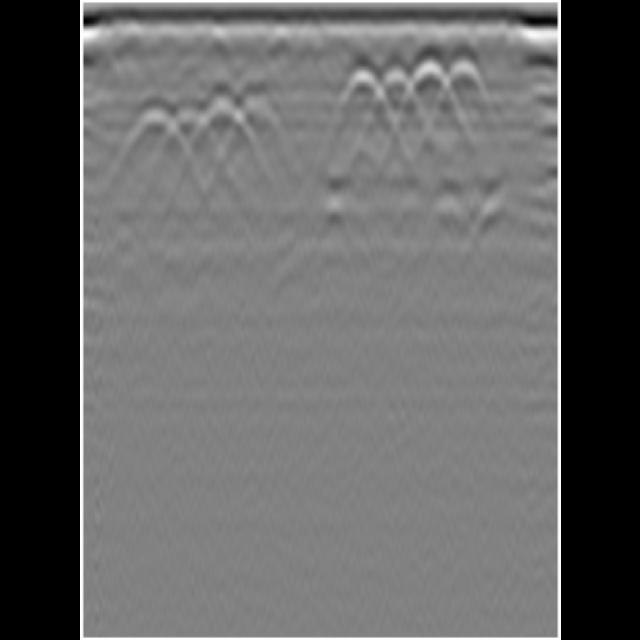hyperbola: (325, 62, 395, 134), (396, 53, 459, 133), (116, 101, 180, 172), (227, 93, 295, 159), (428, 55, 492, 123), (190, 99, 244, 167), (370, 61, 418, 132), (161, 108, 211, 176)
